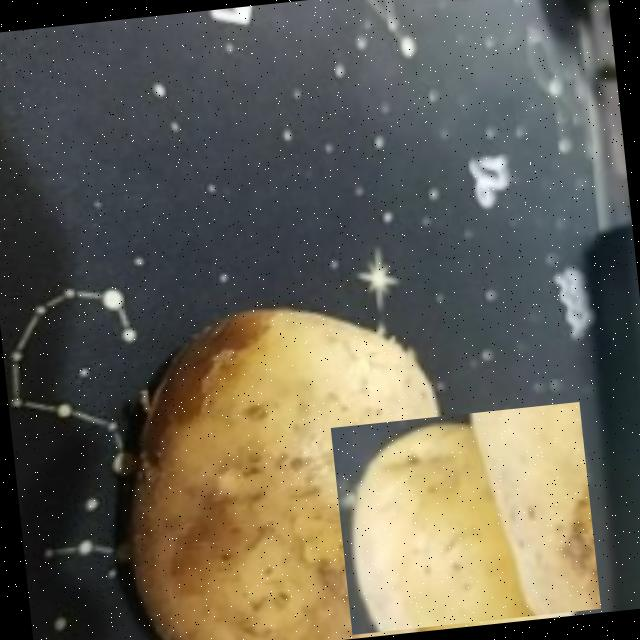Damaged potato: (94, 285, 464, 640)
Potato: (330, 401, 600, 635)
